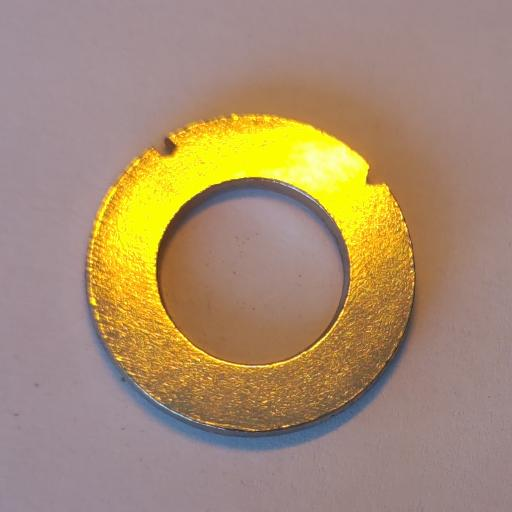burr: (149, 135, 178, 160), (361, 165, 388, 189)
